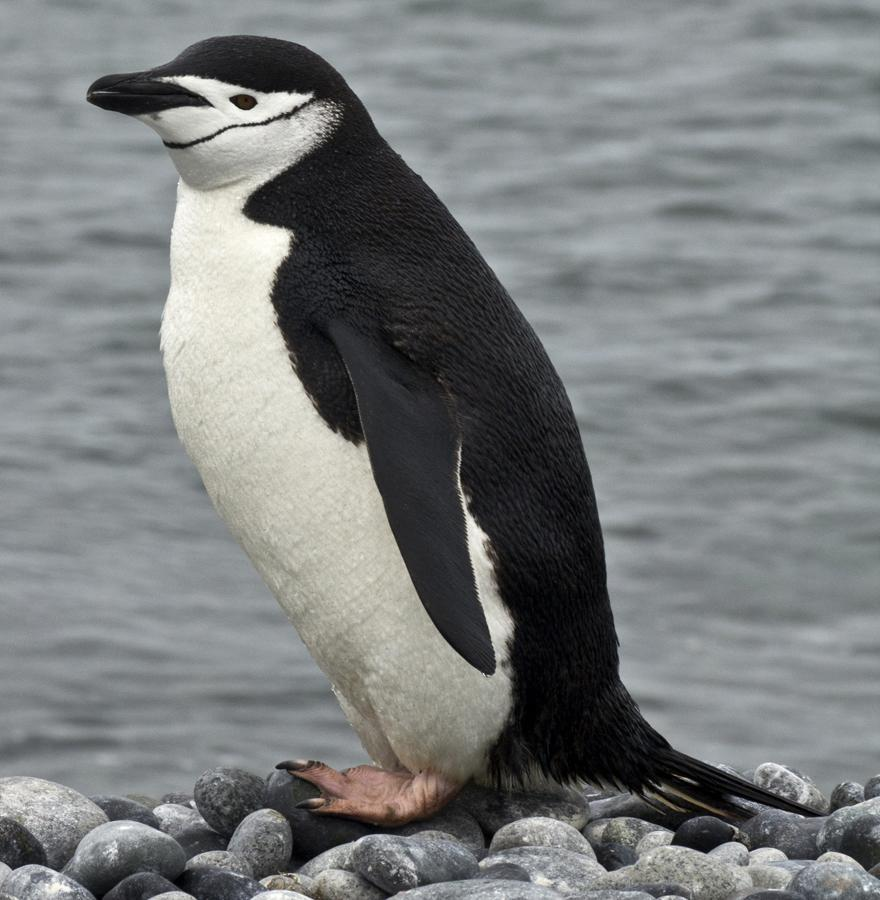Penguin: (88, 37, 806, 822)
